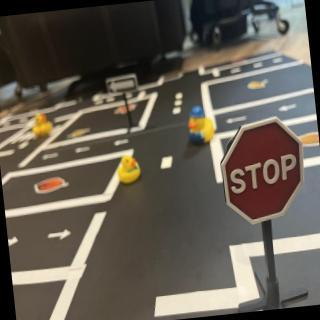duck_regular: (117, 154, 144, 187)
duck_specialty: (185, 103, 219, 148), (32, 111, 55, 140)
road_crosswalk: (8, 123, 69, 145)
road_oneway: (43, 225, 75, 244), (224, 115, 251, 126), (278, 103, 303, 113), (8, 233, 22, 249), (42, 152, 63, 162), (74, 145, 95, 155), (114, 138, 130, 148)
sign_oneway_left: (104, 75, 142, 97)
sign_stop: (218, 111, 313, 230)
